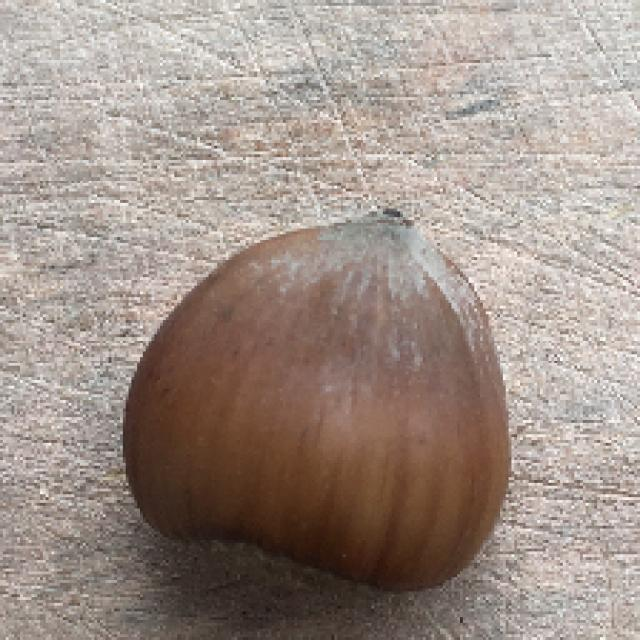qualityHazelnut: (119, 204, 525, 597)
